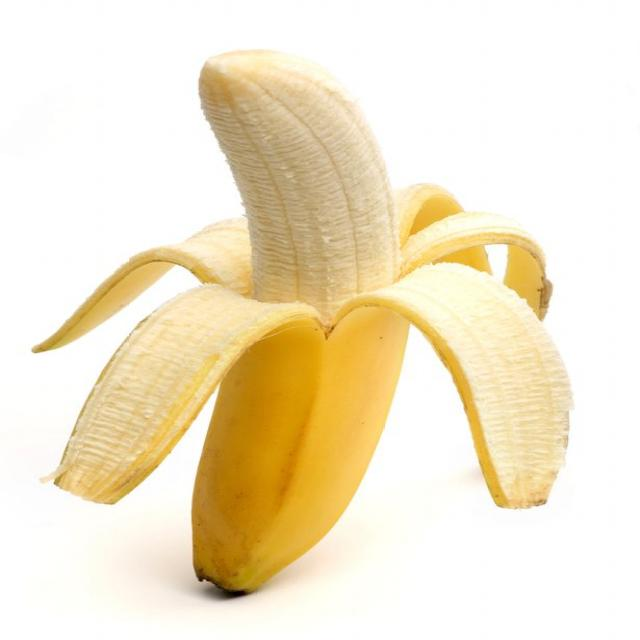banana: (32, 49, 583, 609)
